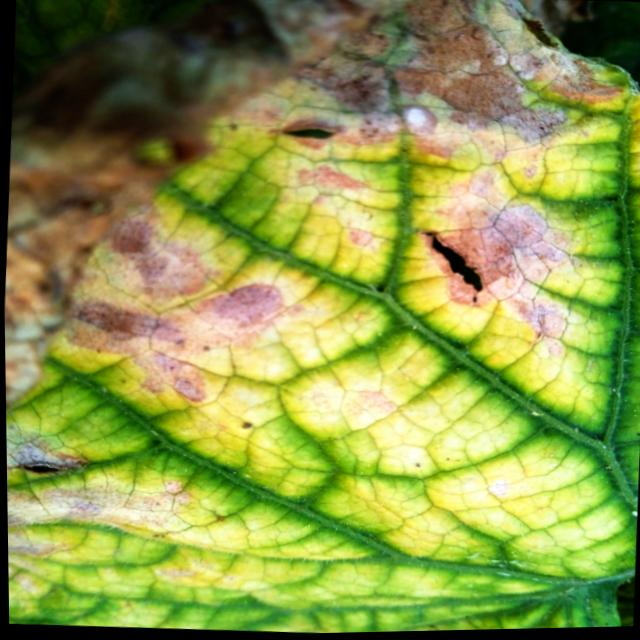Gummy-Stem-Blight: (5, 0, 629, 411)
